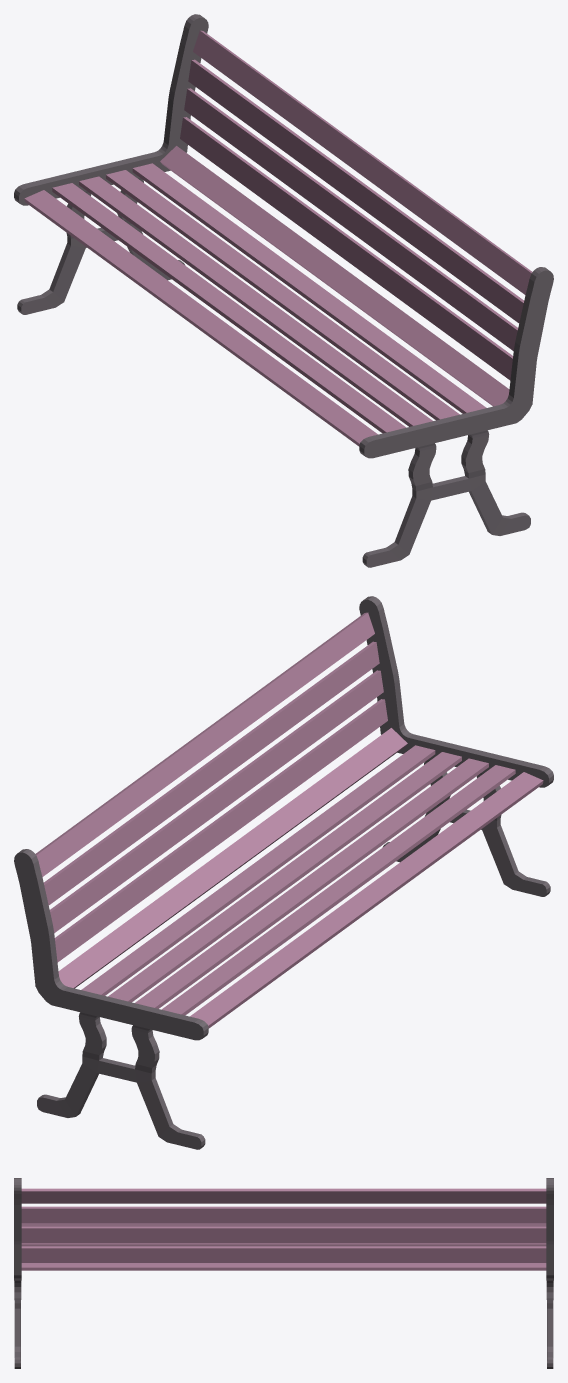
File: Bench.fbx
The picture shows the model from 3 angles, top to bottom: view 1: azimuth 30°, elevation 25°; view 2: azimuth 150°, elevation 25°; view 3: azimuth 270°, elevation 25°; orthographic projection. The views are drawn at different scales.
Parts seen in each view (by area): view 1: Bench; view 2: Bench; view 3: Bench.
Part boxes in pixels (bbox=[...]): Bench: bbox=[14, 14, 553, 567]; Bench: bbox=[14, 596, 553, 1149]; Bench: bbox=[14, 1178, 553, 1368].
Bounding box in the file's own units: 0.7637 × 0.9808 × 2.44.
